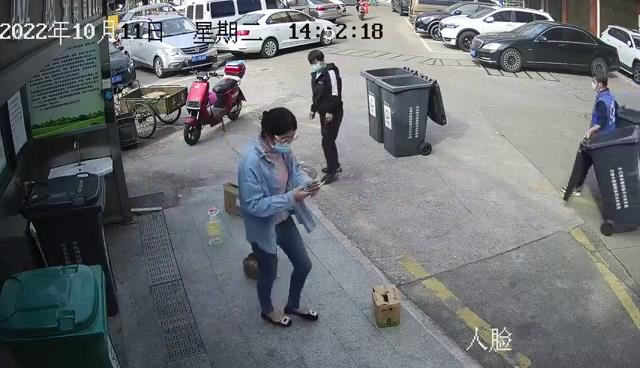person: (304, 48, 348, 188)
suliaozhipin: (203, 205, 226, 248)
worker: (233, 103, 327, 330), (554, 66, 624, 201)
zhizhipin: (369, 282, 404, 330), (220, 179, 250, 217)
